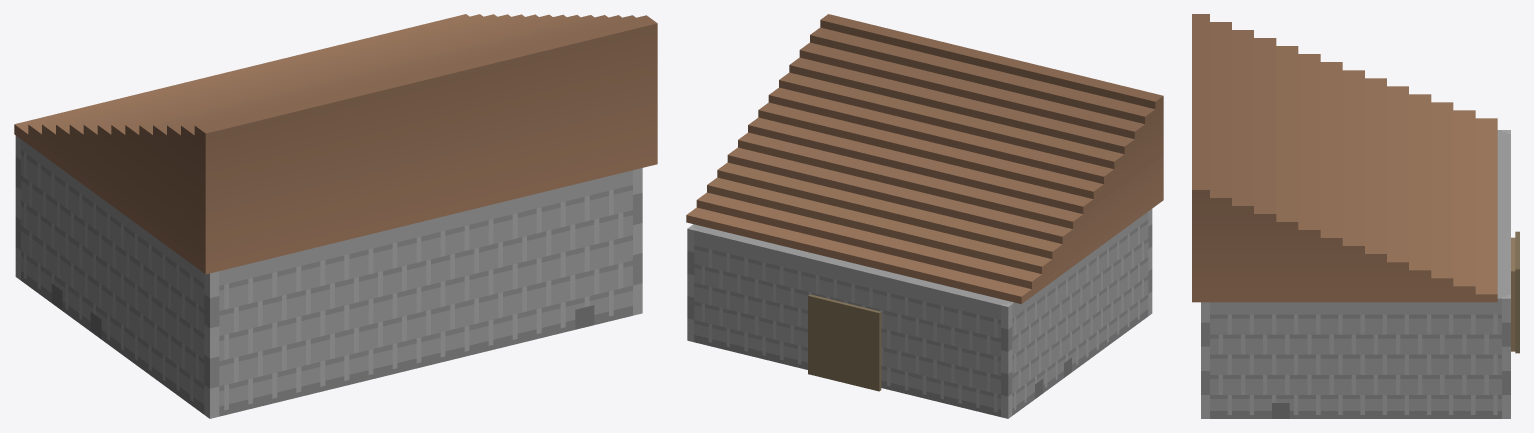
The model's file is establo_03.glb.
3 views of the same model, side by side, from view 1: azimuth 30°, elevation 25°; view 2: azimuth 150°, elevation 25°; view 3: azimuth 270°, elevation 25° (orthographic). The views are drawn at different scales.
Parts seen in each view (by area): view 1: establo_03; view 2: establo_03; view 3: establo_03.
Part boxes in pixels (x1,y1,x2,y2): establo_03: (14, 14, 657, 418); establo_03: (686, 14, 1163, 418); establo_03: (1192, 14, 1519, 418).
Size of the model in its own units: 9.4 by 5.8 by 7.4.
